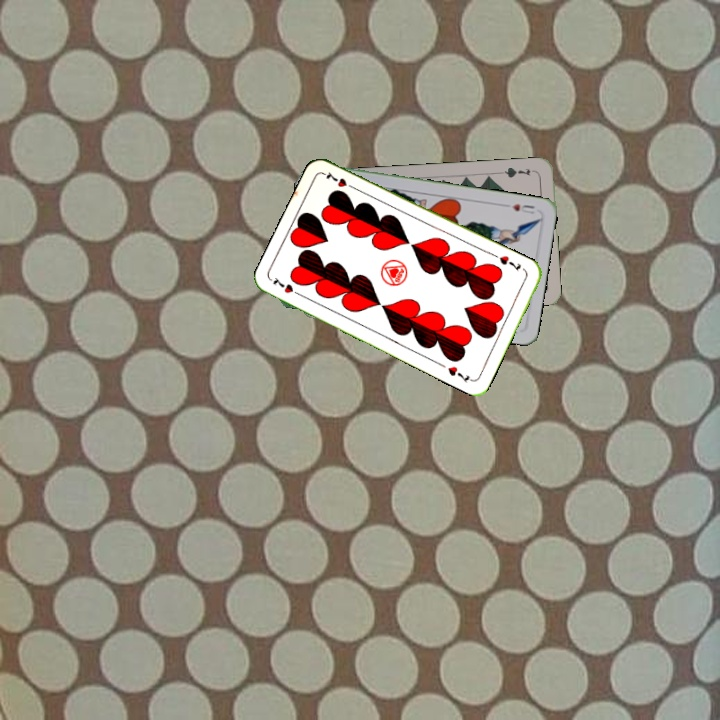G7: (497, 163, 533, 180)
H7: (268, 273, 305, 299), (490, 250, 523, 274)
HU: (508, 200, 537, 217)
